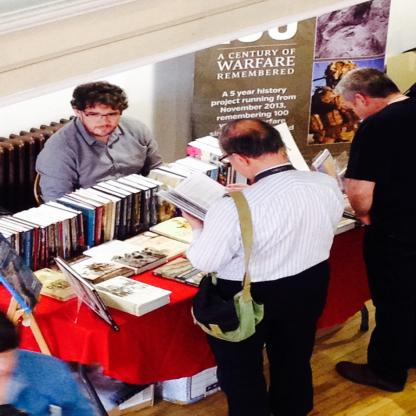book: (0, 134, 253, 318), (93, 275, 174, 317), (310, 150, 340, 177)
